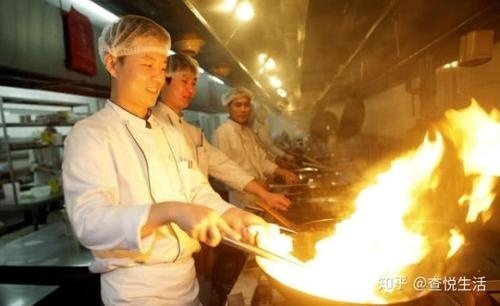fire: (291, 128, 444, 302), (449, 97, 500, 224), (447, 227, 465, 260)
